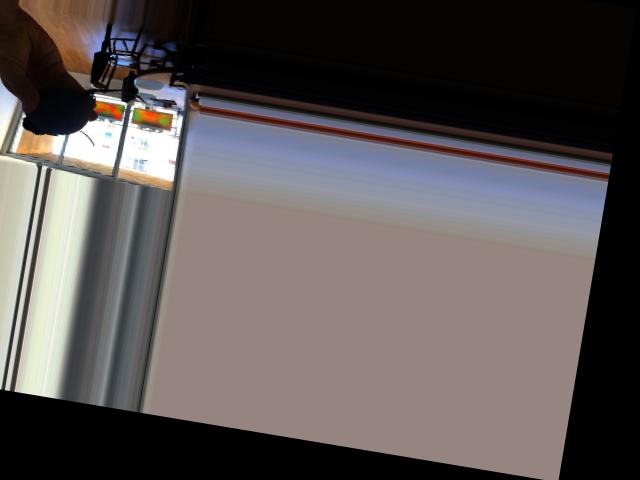beet: (21, 74, 148, 152)
